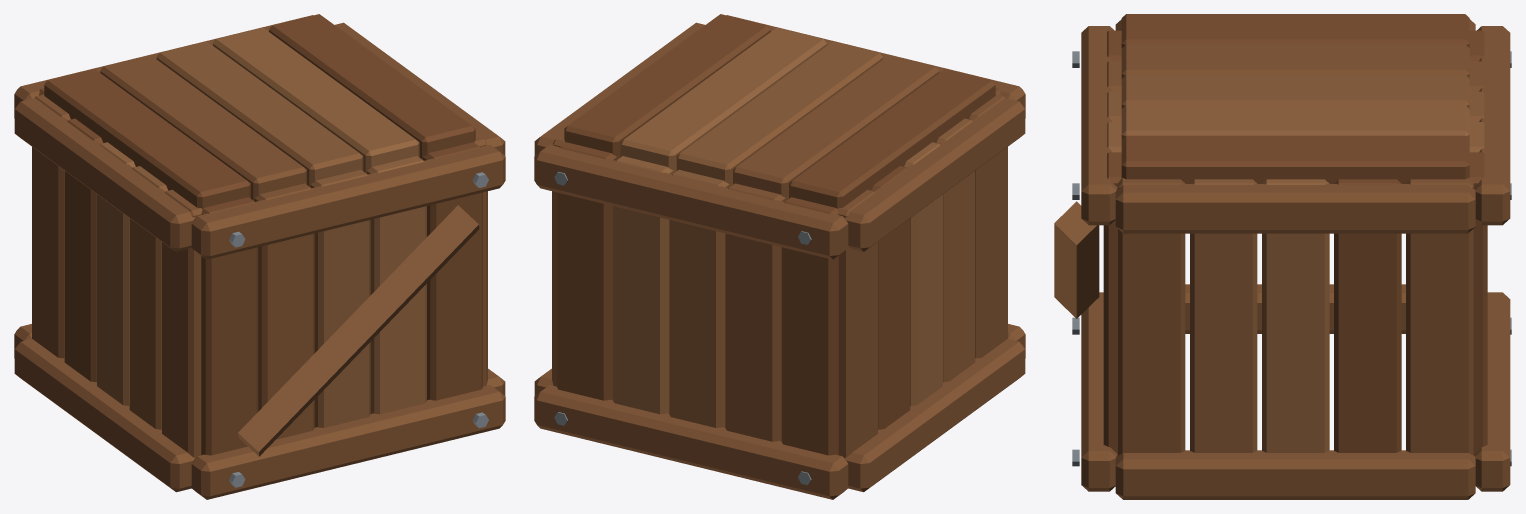
File: PROP_01_WoodenCrate.glb
3 views of the same model, side by side, from view 1: azimuth 30°, elevation 25°; view 2: azimuth 150°, elevation 25°; view 3: azimuth 270°, elevation 25° (orthographic). The views are drawn at different scales.
Visible parts, largest first — view 1: PROP_01_WoodenCrate; view 2: PROP_01_WoodenCrate; view 3: PROP_01_WoodenCrate.
Boxes of the visible parts, x1=… form: PROP_01_WoodenCrate: x1=14, y1=14, x2=505, y2=499; PROP_01_WoodenCrate: x1=534, y1=14, x2=1025, y2=499; PROP_01_WoodenCrate: x1=1054, y1=14, x2=1511, y2=499.
Bounding box in the file's own units: 1.43 × 1.2 × 1.53.
